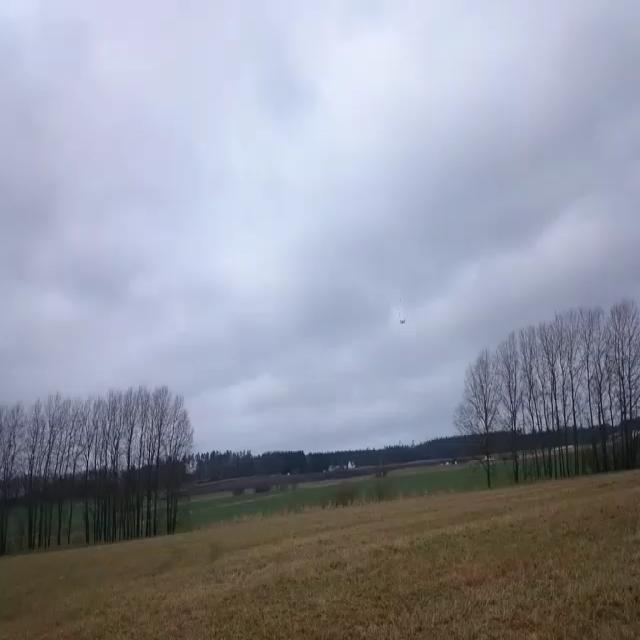Drone: (392, 307, 415, 334)
